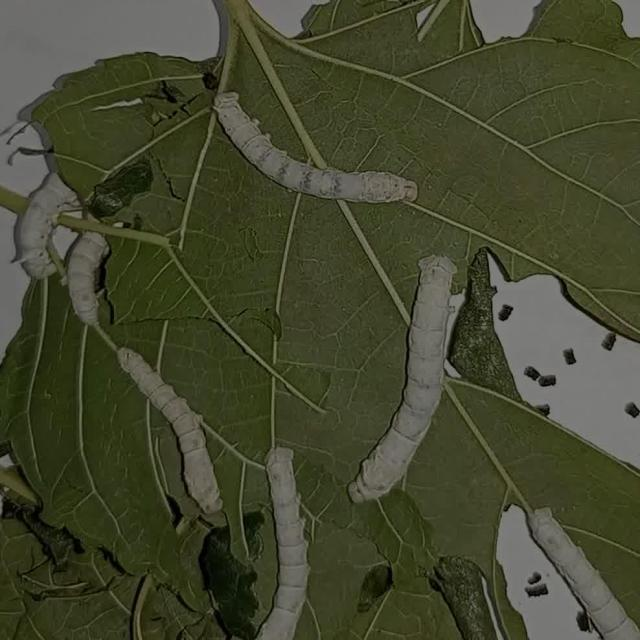Healthy: (343, 248, 473, 512), (205, 80, 429, 222), (109, 340, 227, 520), (515, 495, 640, 640), (240, 438, 318, 640)
